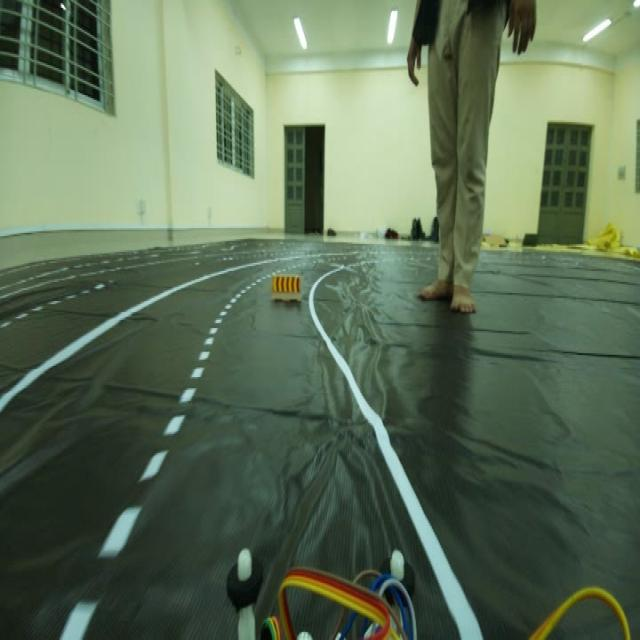roadblock: (266, 266, 306, 304)
